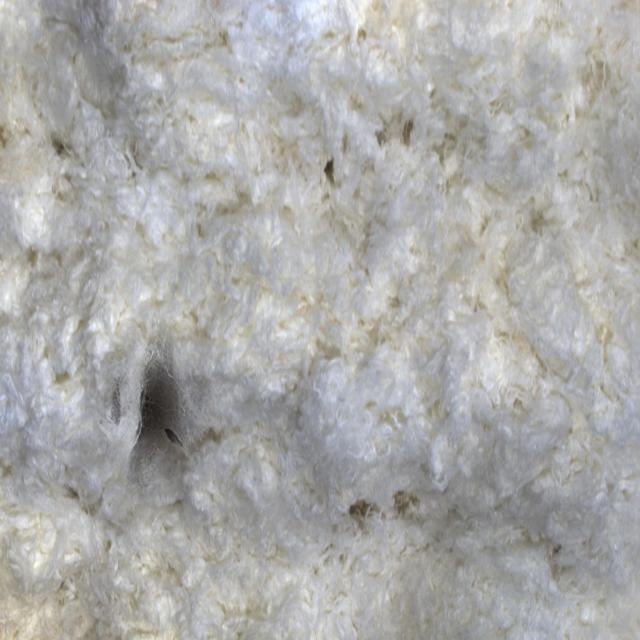dust: (80, 300, 252, 514)
